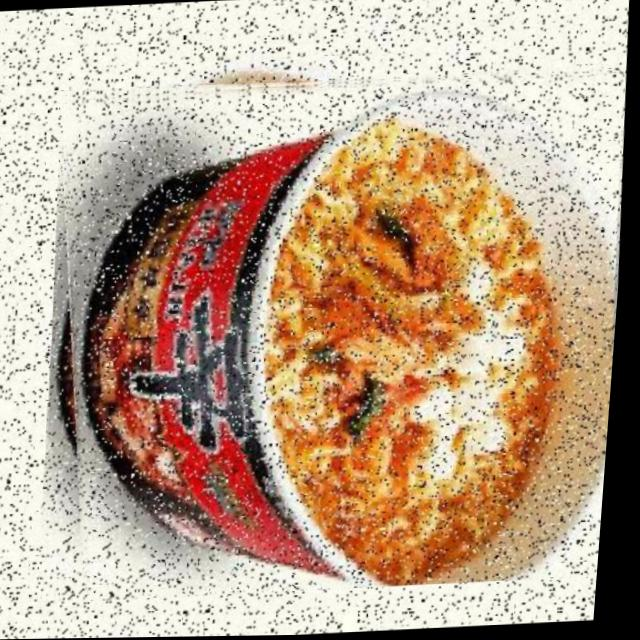Miscellaneous: (29, 66, 636, 604)
